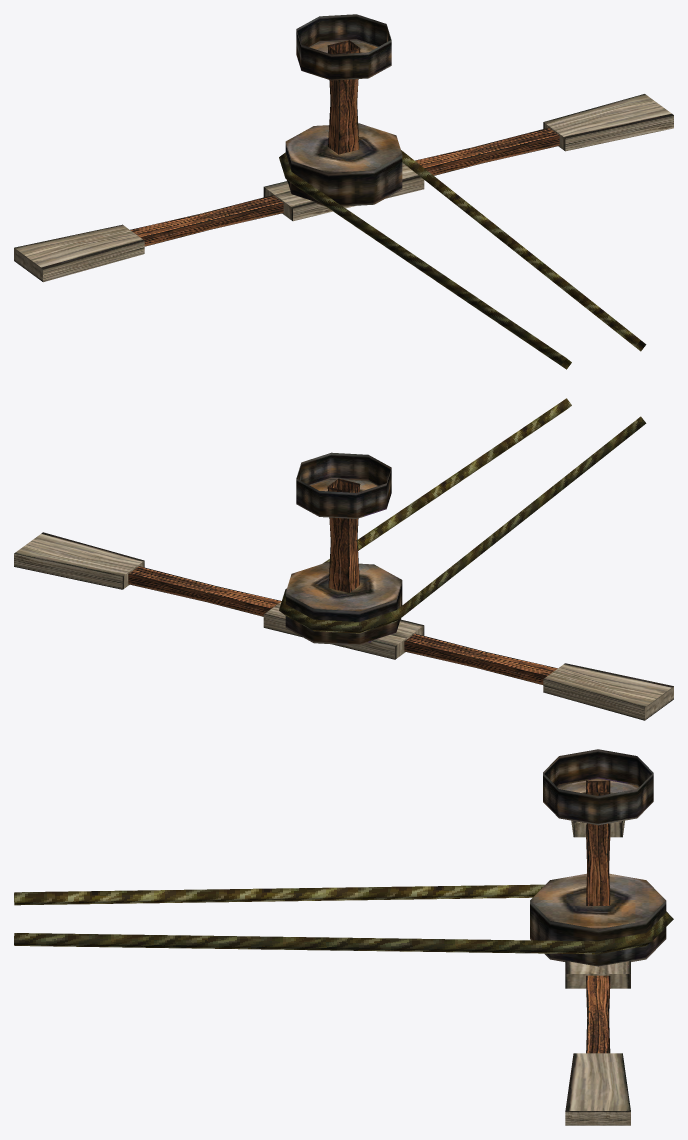
File: INST_WH2_SPINNING_T.fbx
The picture shows the model from 3 angles, top to bottom: view 1: azimuth 30°, elevation 25°; view 2: azimuth 150°, elevation 25°; view 3: azimuth 270°, elevation 25°; orthographic projection. The views are drawn at different scales.
Parts seen in each view (by area): view 1: INST_WH2_SPINNING_T; view 2: INST_WH2_SPINNING_T; view 3: INST_WH2_SPINNING_T.
Boxes of the visible parts, left/top/right/bottom form: INST_WH2_SPINNING_T: left=14, top=14, right=673, bottom=369; INST_WH2_SPINNING_T: left=14, top=398, right=673, bottom=720; INST_WH2_SPINNING_T: left=14, top=749, right=673, bottom=1125.
Size of the model in its own units: 80000 by 19425 by 64493.
4 materials, 4 textured.
